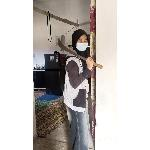Golok: (53, 36, 107, 72)
